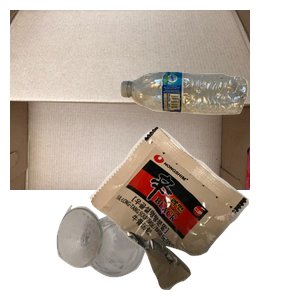cardboard: (10, 10, 250, 190)
glass: (54, 202, 193, 300)
plastic: (118, 69, 300, 176)
trash: (86, 124, 300, 300)
